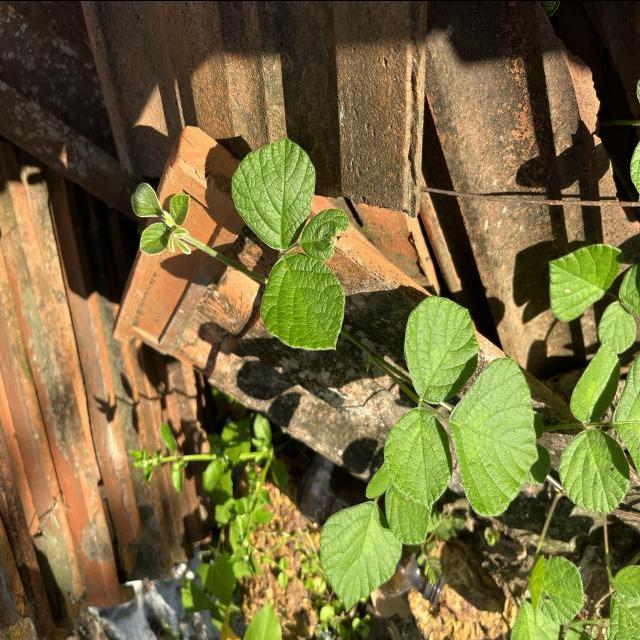Pseudarthria viscida: (382, 294, 540, 518), (228, 133, 352, 351)
